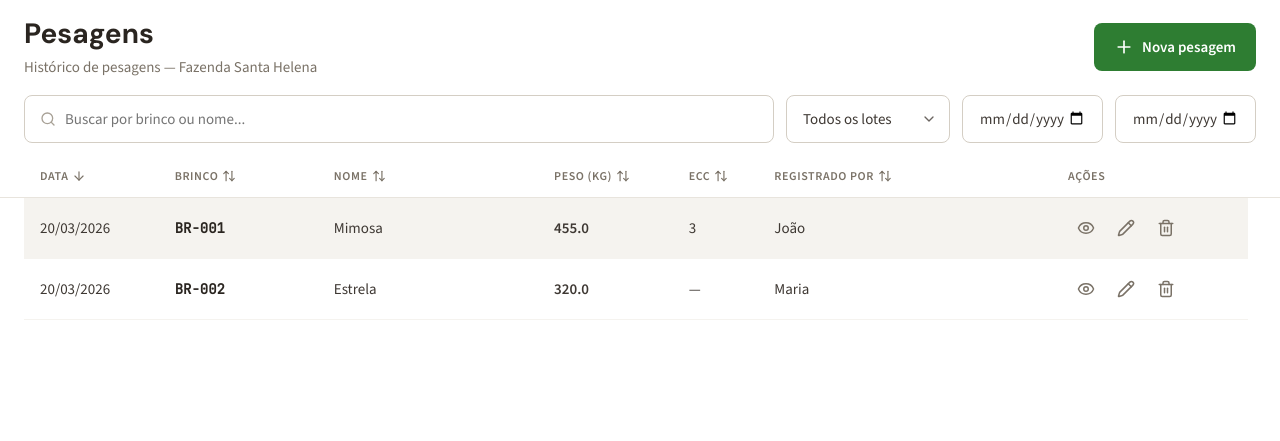
Test case: WeighingSessionPage › returns to history from start phase
Click the button "Nova pesagem" at (1175, 47), box [1094,23,1256,71]
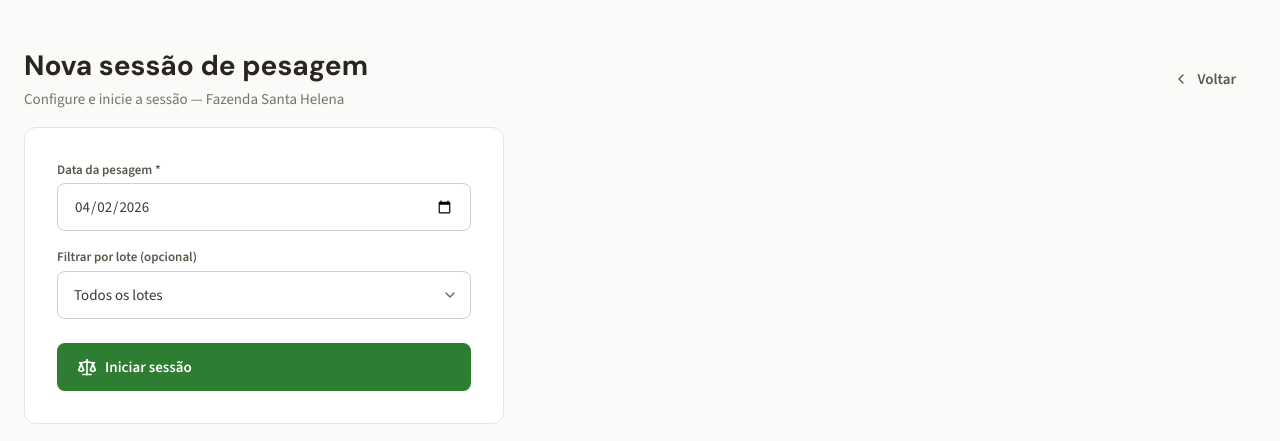
Click the button "Voltar" at (1205, 79), box [1154,55,1256,103]
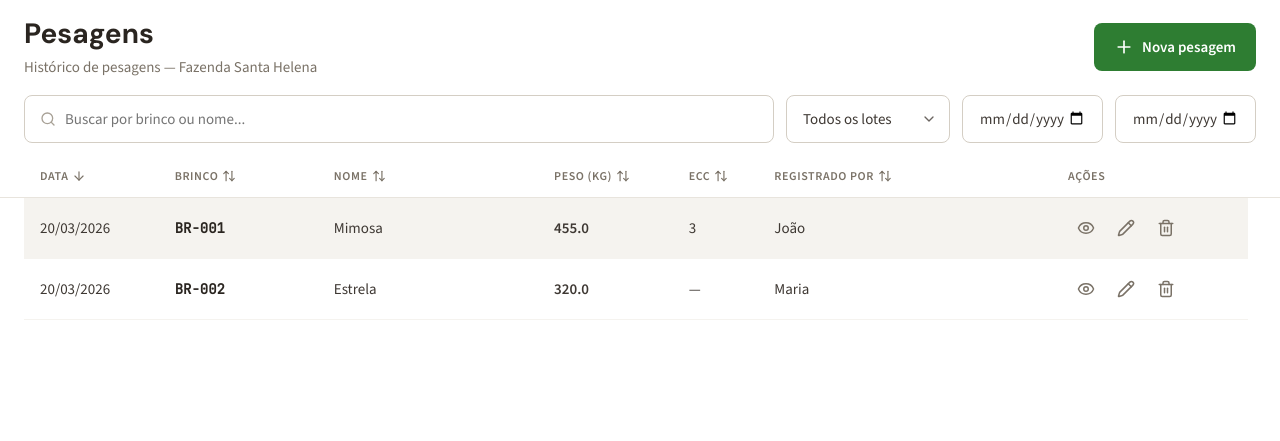
Expected: the heading "Pesagens" is shown, [24,15,154,52]
